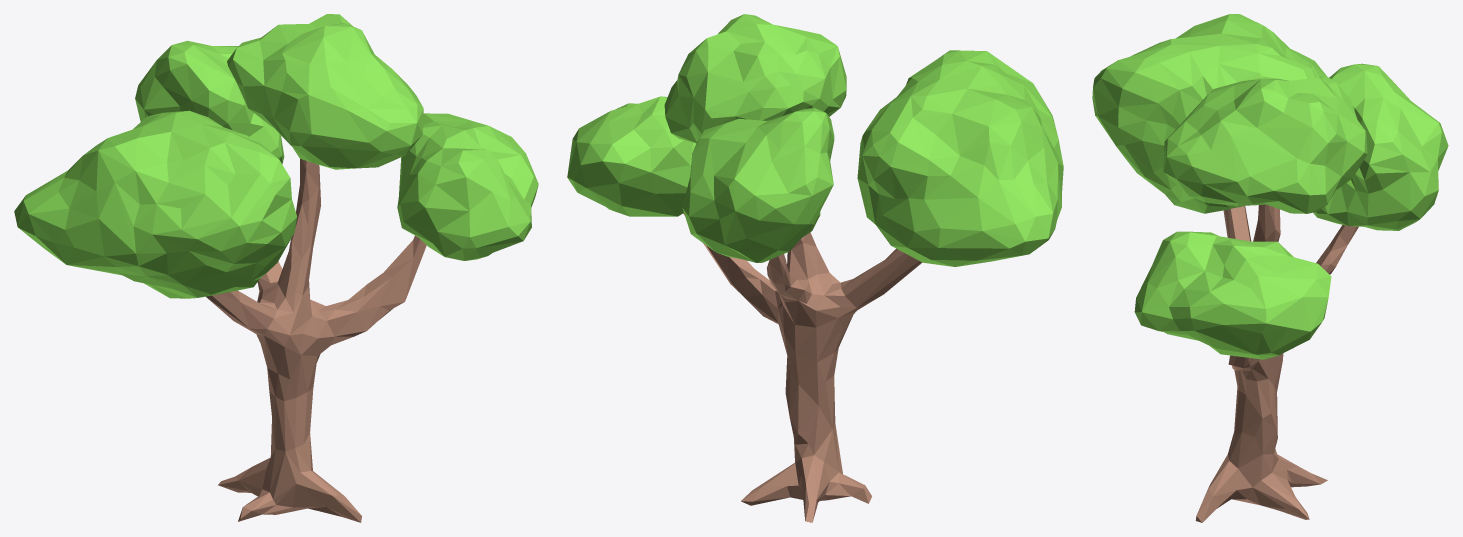
Rendered from Ash3.fbx.
3 views of the same model, side by side, from view 1: azimuth 30°, elevation 25°; view 2: azimuth 150°, elevation 25°; view 3: azimuth 270°, elevation 25° (orthographic). The views are drawn at different scales.
Visible parts, largest first — view 1: Ash3; view 2: Ash3; view 3: Ash3.
Part boxes in pixels (<box>): Ash3: <box>14,14,538,522</box>; Ash3: <box>567,14,1063,522</box>; Ash3: <box>1092,14,1448,522</box>.
Bounding box in the file's own units: 6812 × 6223 × 4516.
